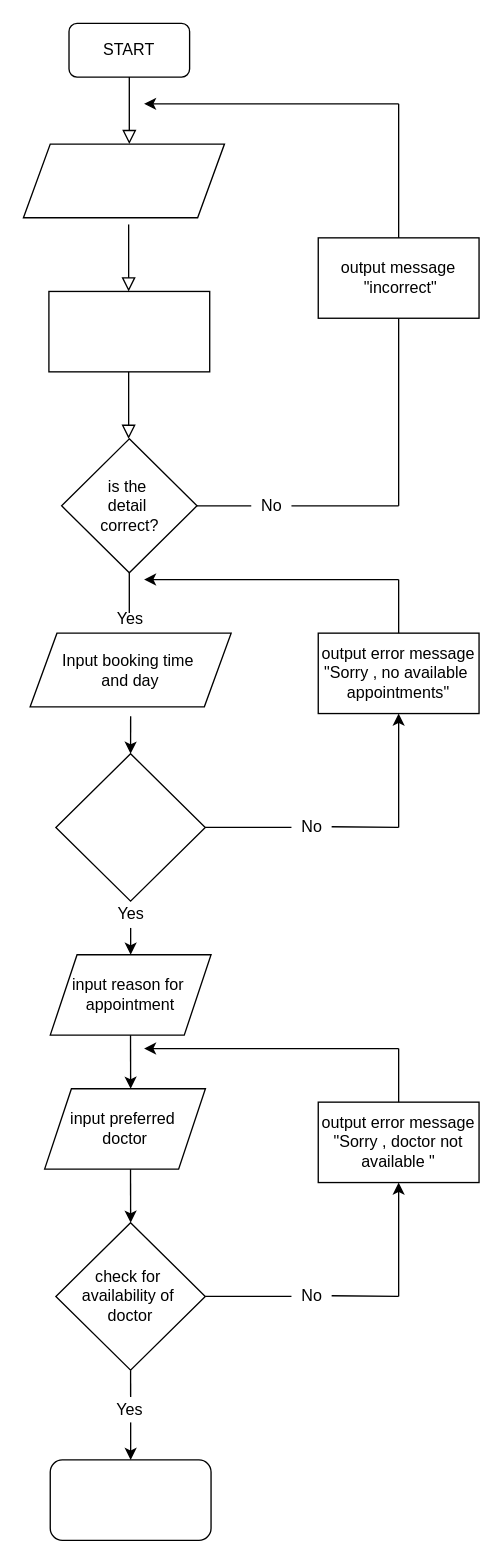
The diagram is 503 pixels wide and 1564 high, and some of its shapes have lost their labels. Here are the shapes that lost their labels. From the top down, the box of each, then its label:
(22, 143, 224, 218): input patient details
(48, 290, 210, 372): confirm details of the patient
(55, 752, 205, 901): check for availability
(49, 1459, 211, 1540): END
